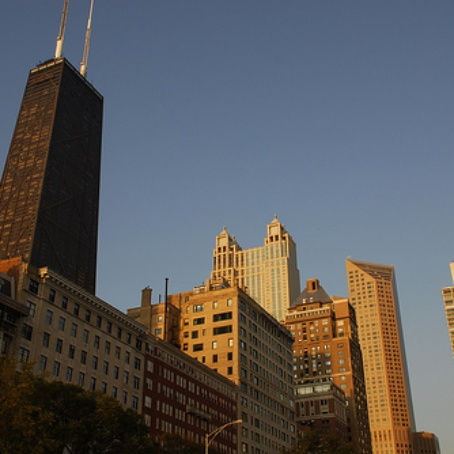building: (2, 47, 109, 285), (154, 289, 295, 451), (13, 272, 143, 445), (347, 261, 422, 454), (136, 337, 240, 454), (290, 292, 361, 454), (208, 220, 297, 313)
sky: (115, 1, 454, 242)
